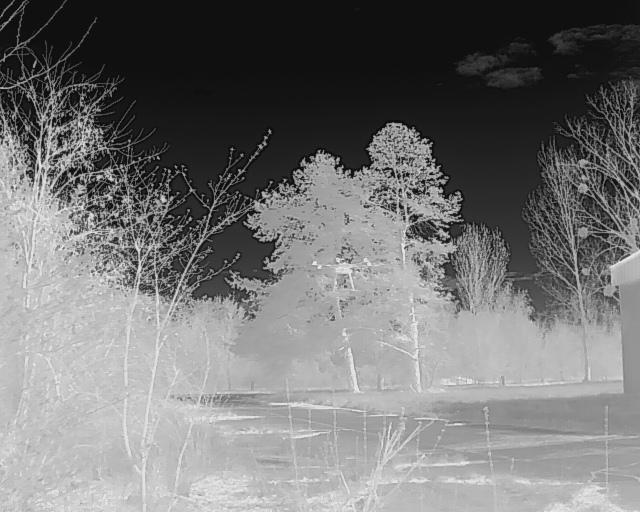drone: (303, 249, 386, 301)
